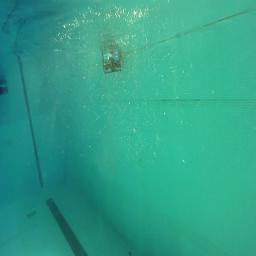Full: (0, 80, 10, 96), (0, 80, 9, 95)
back: (102, 52, 122, 76), (103, 54, 122, 74)
